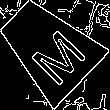M_NW: (14, 14, 82, 82)
